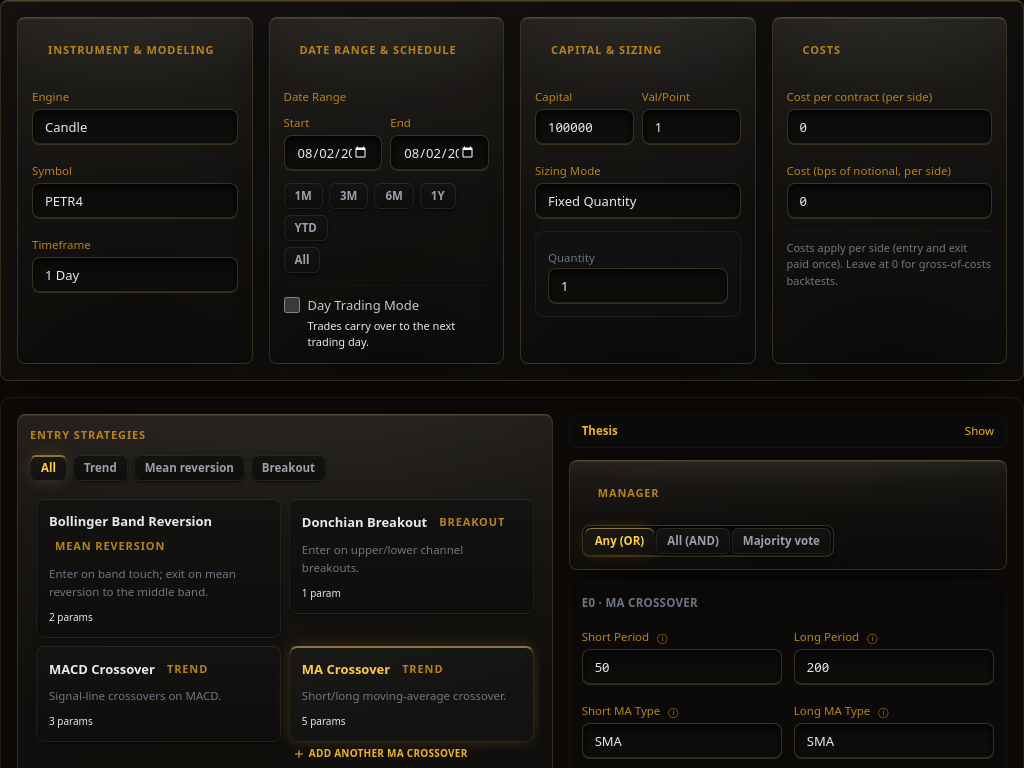
Test: BacktestSetupPanel › loads all available data range when All is clicked
Expected: the button "MA Crossover" is shown, left=289, top=646, right=534, bottom=742
Click the button titled "Use all OHLCV data available in MetaTrader 5": (302, 260) left=284, top=246, right=320, bottom=272
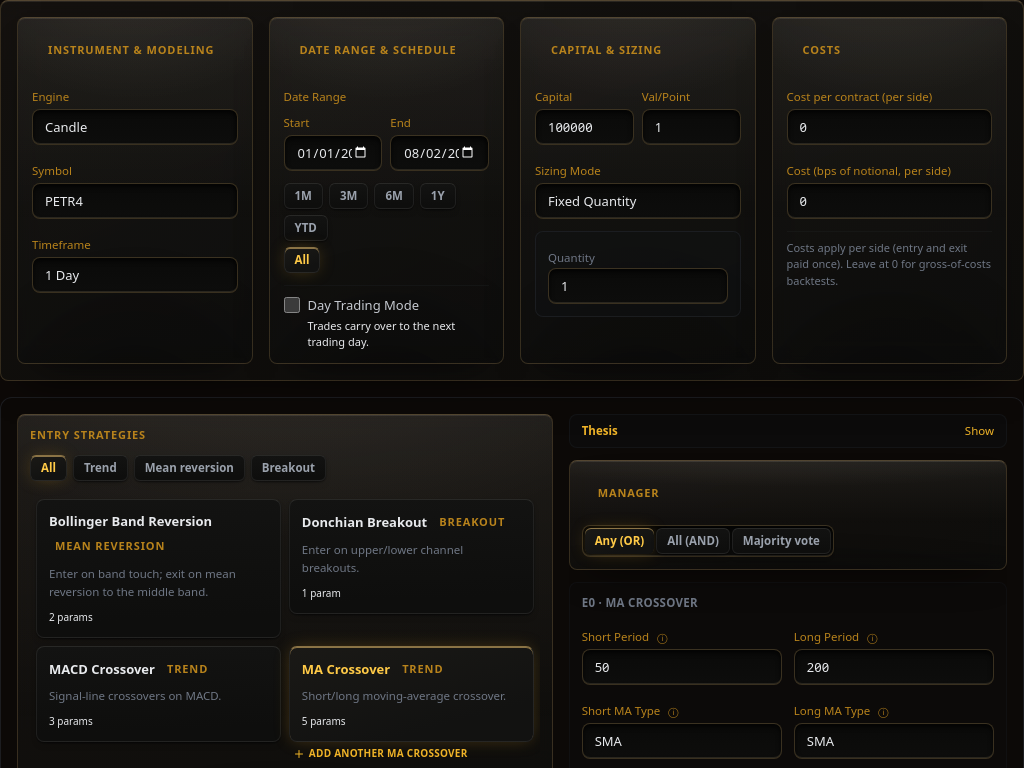
Result: the date field labelled "Start" holds "2020-01-01" at left=284, top=134, right=382, bottom=170
